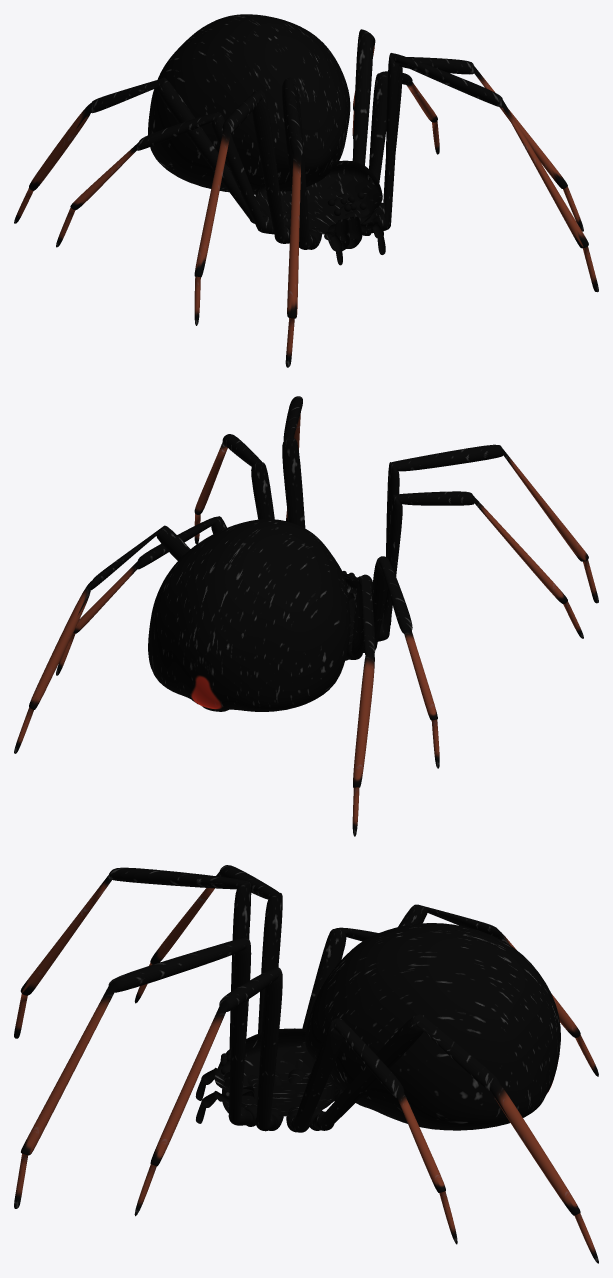
Rendered from Viuda Negra.glb.
The picture shows the model from 3 angles, top to bottom: view 1: azimuth 30°, elevation 25°; view 2: azimuth 150°, elevation 25°; view 3: azimuth 270°, elevation 25°; orthographic projection. The views are drawn at different scales.
Visible parts, largest first — view 1: Viuda Negra; view 2: Viuda Negra; view 3: Viuda Negra.
Boxes of the visible parts, box(x1,y1,x2,y2) form: Viuda Negra: box(14, 14, 598, 367); Viuda Negra: box(14, 396, 598, 836); Viuda Negra: box(14, 865, 598, 1263).
Size of the model in its own units: 5.44 by 3.09 by 6.29.
Materials: 1 (1 with a texture image).
